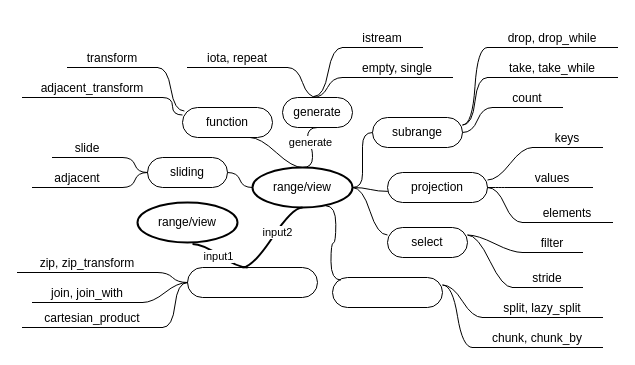
Some shapes in this 635 by 365 pixel diagram are drawn without their labels. Each missing label, with the centre of its shape:
multiple->single: [252,282]
tokenization: [387,292]
